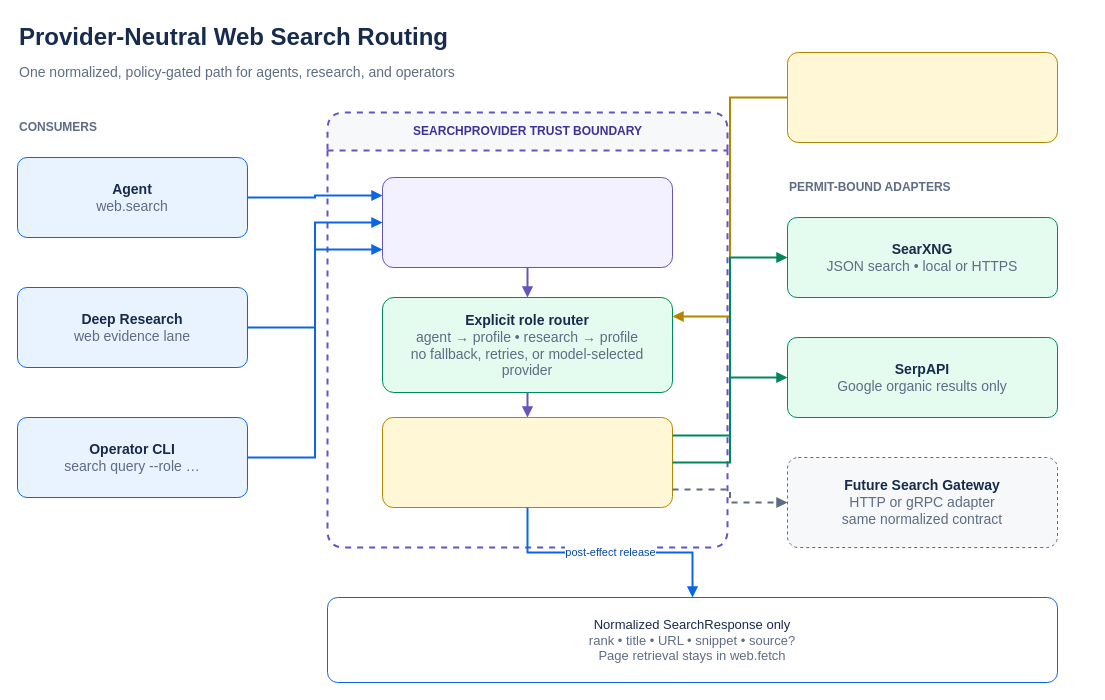
Image size: 1105x700. Some labels were removed from this diagram. Here are the shapes that lost their labels. From the top down, the centre of each, then its label:
At point 922,97: "Operator configuration search.profiles + search.roles credential references only".
At point 527,222: "SearchProvider port route inspection + search(role, actor, context, request)".
At point 527,462: "Policy + one-use permit pre-effect approval • quarantine • post-effect release".
